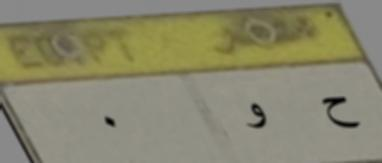0: (98, 111, 123, 140)
7aa: (320, 90, 364, 134)
waw: (236, 97, 272, 134)
